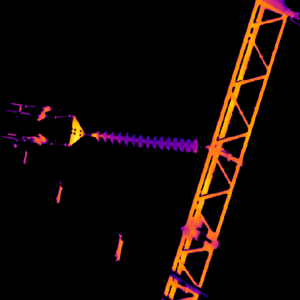insulator: (88, 127, 198, 154)
